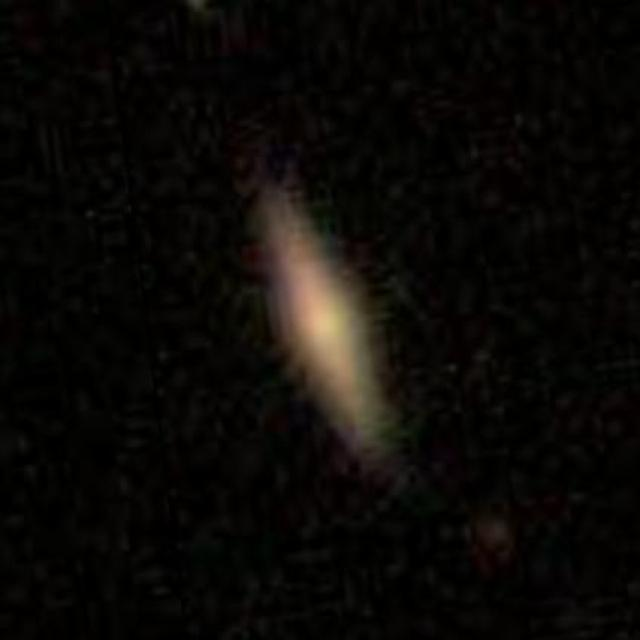galaxy: (228, 148, 427, 492)
